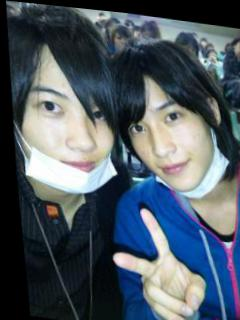NONE: (112, 31, 131, 52), (235, 36, 240, 51)
WRONG: (9, 75, 120, 197), (121, 82, 225, 199)
